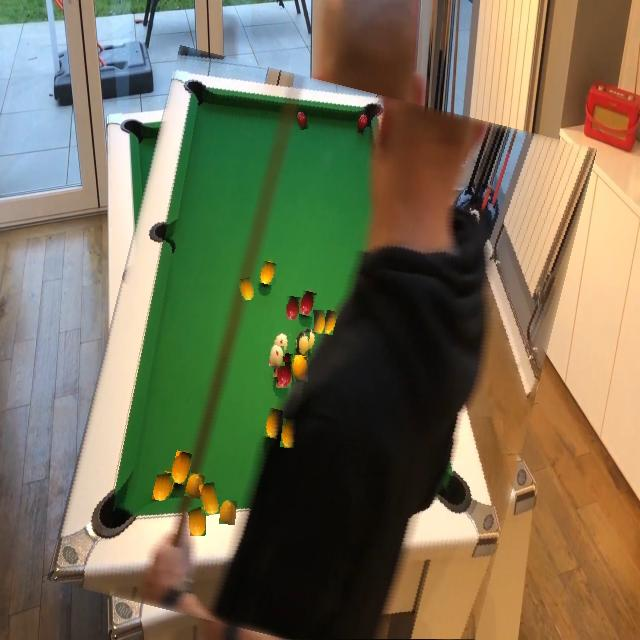Ball: (201, 482, 219, 516), (189, 507, 206, 536), (281, 419, 297, 448), (219, 501, 237, 525), (277, 362, 292, 388), (239, 277, 255, 301), (294, 332, 310, 356), (293, 358, 308, 383), (286, 297, 300, 321), (270, 345, 284, 366), (314, 310, 325, 334), (297, 112, 309, 130)
Billiard table: (76, 67, 567, 640)
